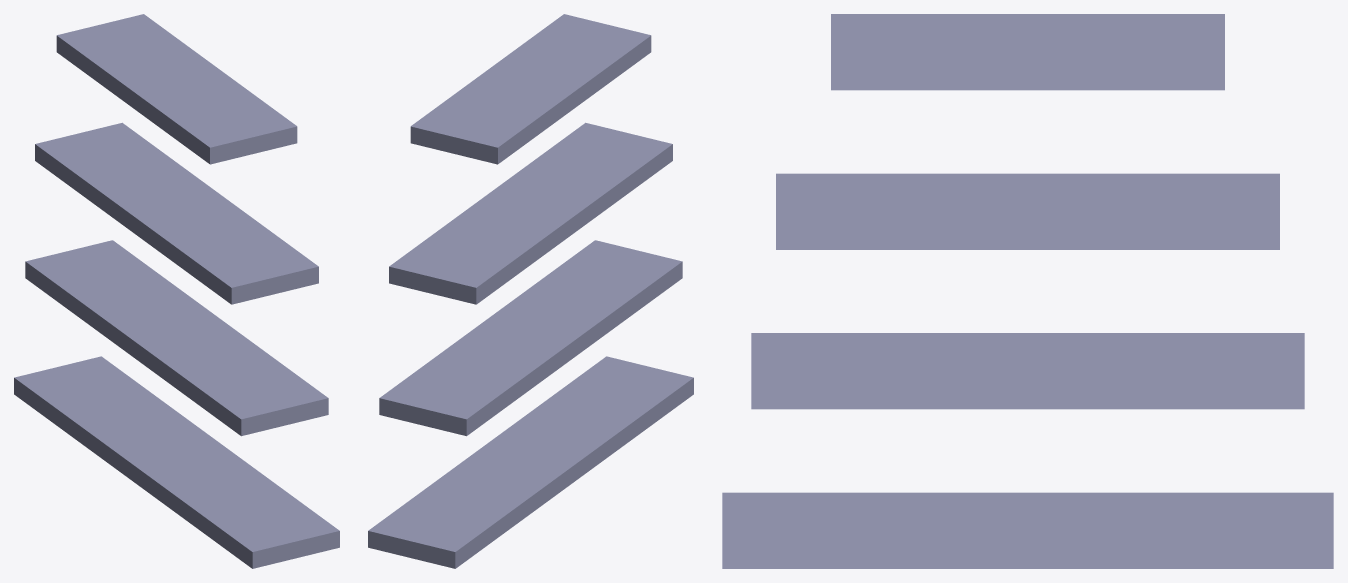
Rendered from Side Rack.fbx.
3 views of the same model, side by side, from view 1: azimuth 30°, elevation 25°; view 2: azimuth 150°, elevation 25°; view 3: azimuth 270°, elevation 25° (orthographic). The views are drawn at different scales.
Parts seen in each view (by area): view 1: Side Rack; view 2: Side Rack; view 3: Side Rack.
Boxes of the visible parts, x1,y1,x2,y2 form: Side Rack: (14,14,339,568); Side Rack: (368,14,693,568); Side Rack: (722,14,1333,568).
Bounding box in the file's own units: 0.328 × 1.4 × 1.55.
